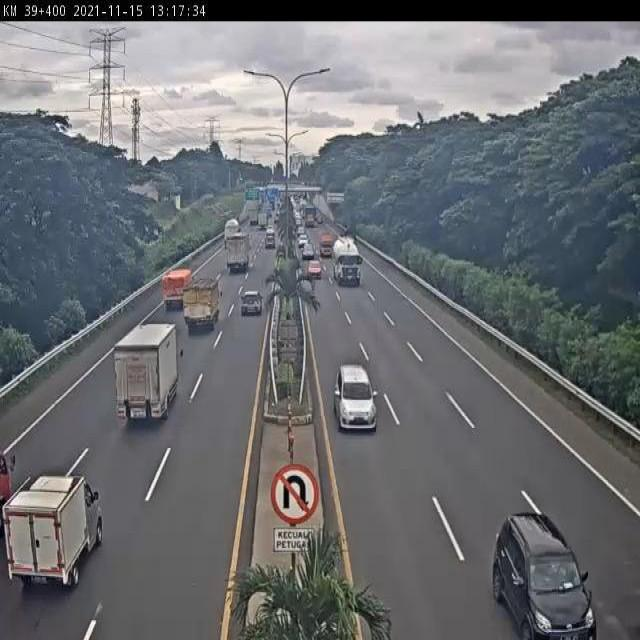car: (493, 509, 596, 640), (332, 364, 377, 435), (240, 288, 264, 319)
truck-l-: (333, 236, 362, 289)
truck-m-: (113, 323, 178, 428), (183, 278, 221, 334), (162, 266, 194, 310), (225, 234, 251, 274)
truck-s-: (6, 472, 105, 595)
